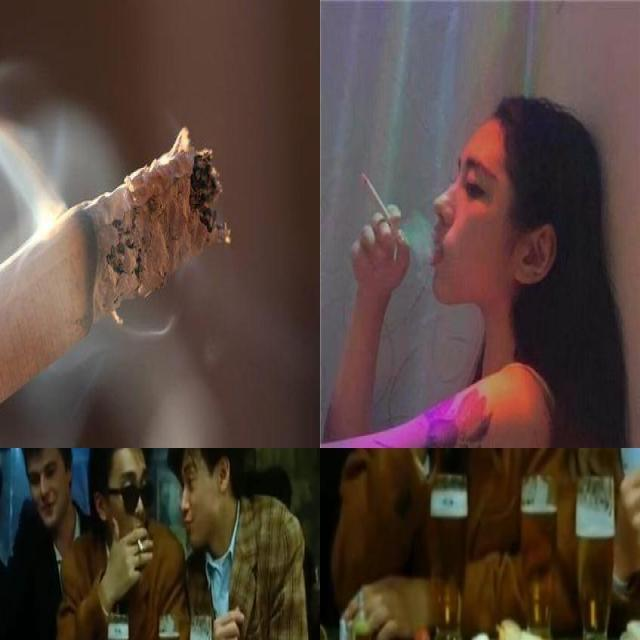smoking: (0, 124, 232, 446), (358, 172, 406, 248), (138, 538, 144, 552)
